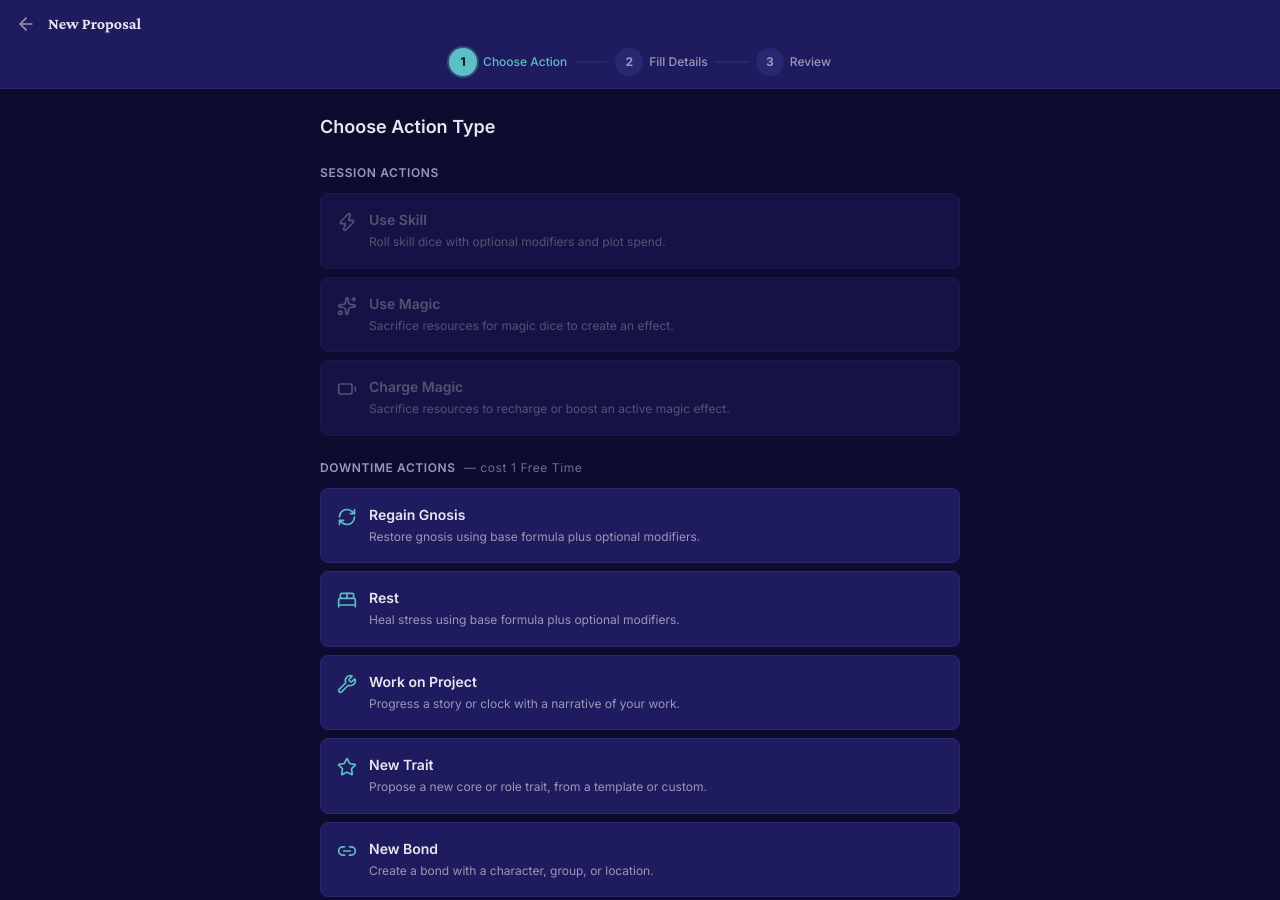
Scenario: proposal wizard — full rest (downtime) flow › navigates to Step 2 after selecting Rest
The image size is (1280, 900).
Click the button with aria-label "Select Rest" at (524, 620), box [320,571,960,646]
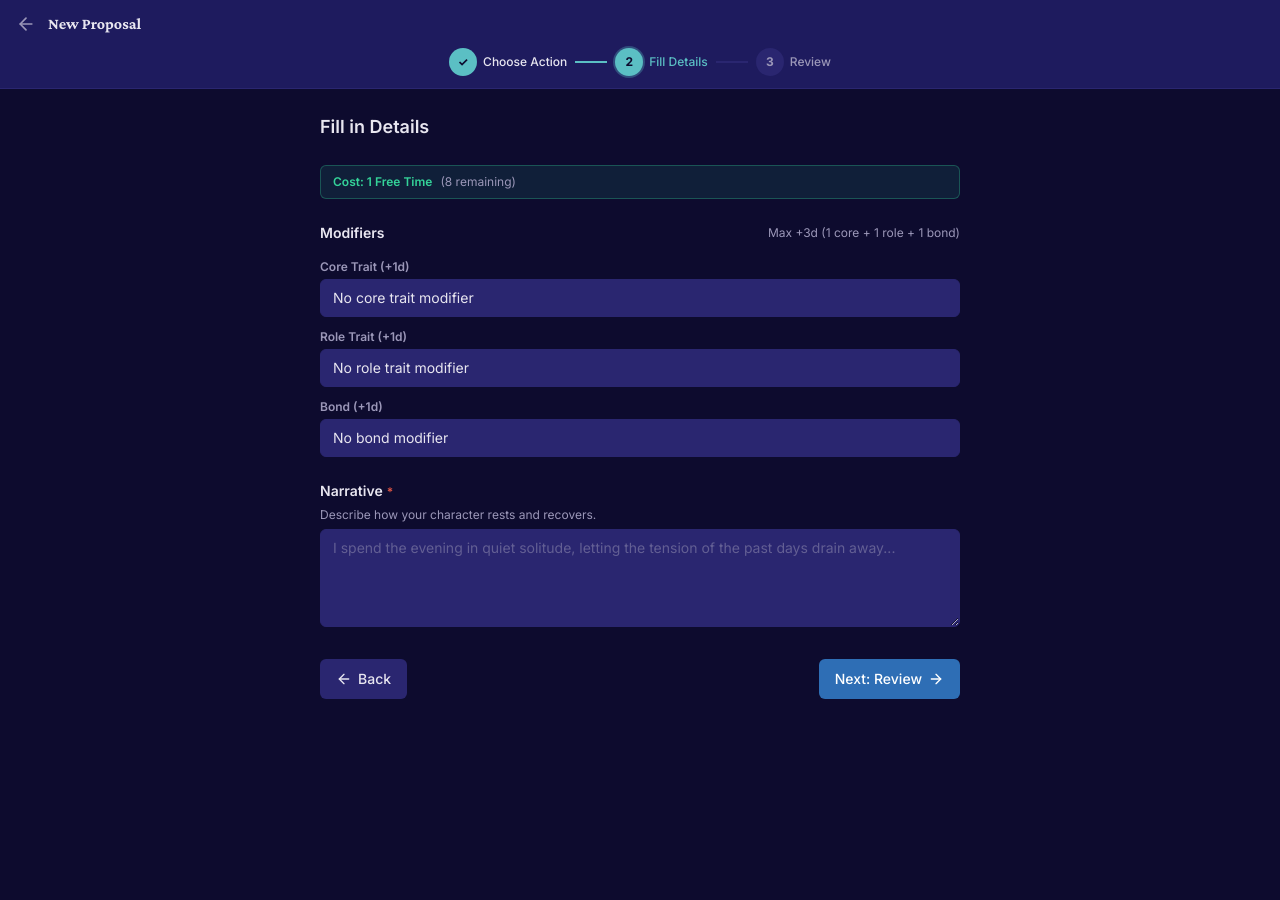
Now the heading "Fill in Details" is shown, box [320,116,429,137]
